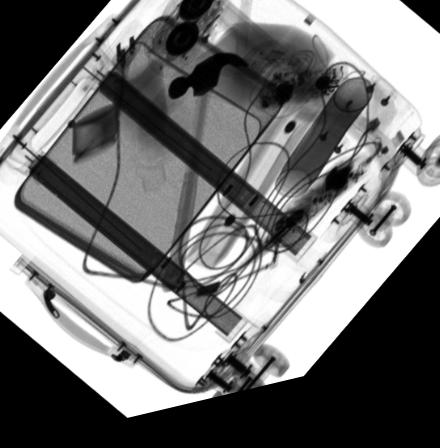Hammer: (159, 62, 249, 301)
